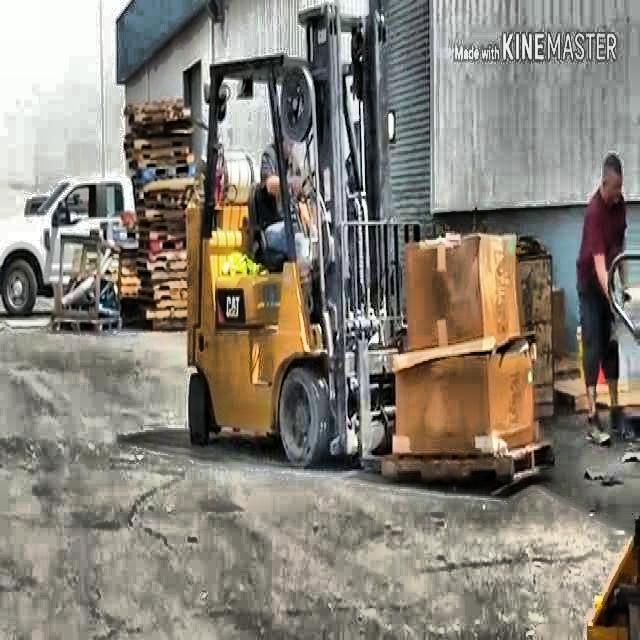bull_dozer/loader/grader: (181, 0, 564, 507)
person: (575, 148, 636, 454)
